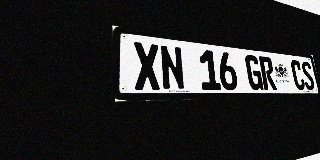1: (198, 49, 221, 90)
6: (217, 51, 239, 90)
C: (290, 60, 306, 90)
G: (244, 54, 264, 90)
N: (159, 44, 186, 90)
R: (259, 56, 277, 90)
S: (300, 61, 316, 90)
X: (132, 41, 162, 90)
